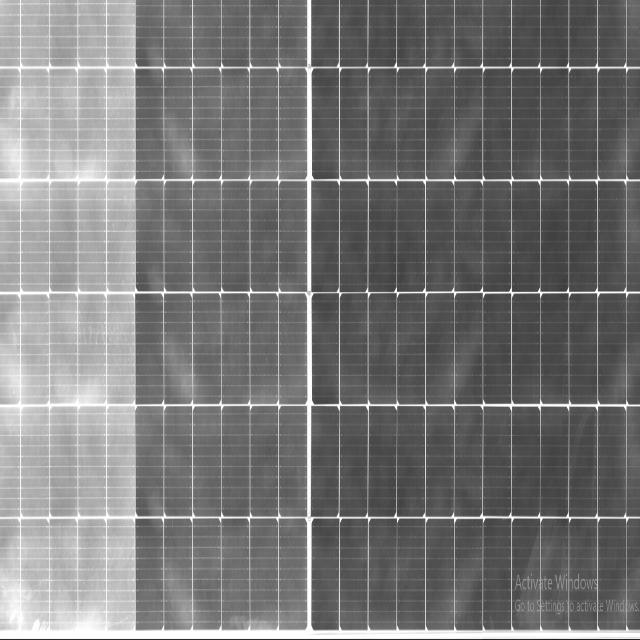CORRECT: (249, 0, 640, 640), (24, 1, 329, 640)
